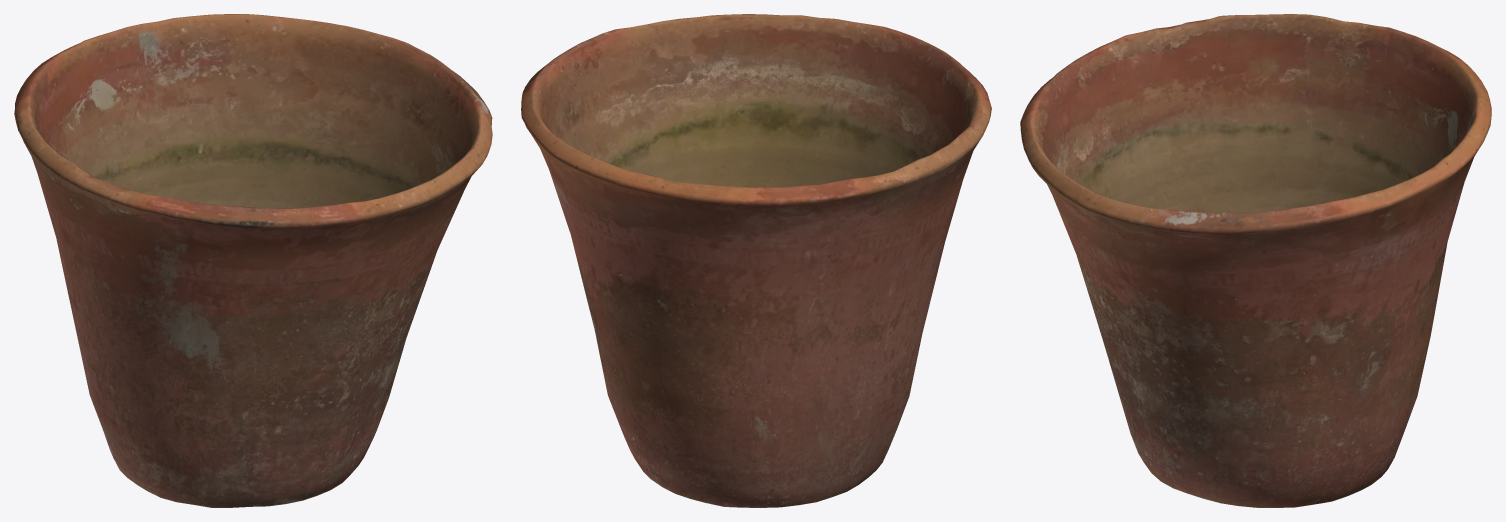
The model's file is planter_pot_clay.glb.
3 renders of one model, left to right at view 1: azimuth 30°, elevation 25°; view 2: azimuth 150°, elevation 25°; view 3: azimuth 270°, elevation 25°, orthographic.
Visible parts, largest first — view 1: planter_pot_clay; view 2: planter_pot_clay; view 3: planter_pot_clay.
Boxes of the visible parts, bbox=[...] form: planter_pot_clay: bbox=[14, 14, 492, 507]; planter_pot_clay: bbox=[521, 14, 991, 507]; planter_pot_clay: bbox=[1020, 14, 1491, 507].
Size of the model in its own units: 0.266 by 0.2219 by 0.2635.
1 material, 1 textured.
